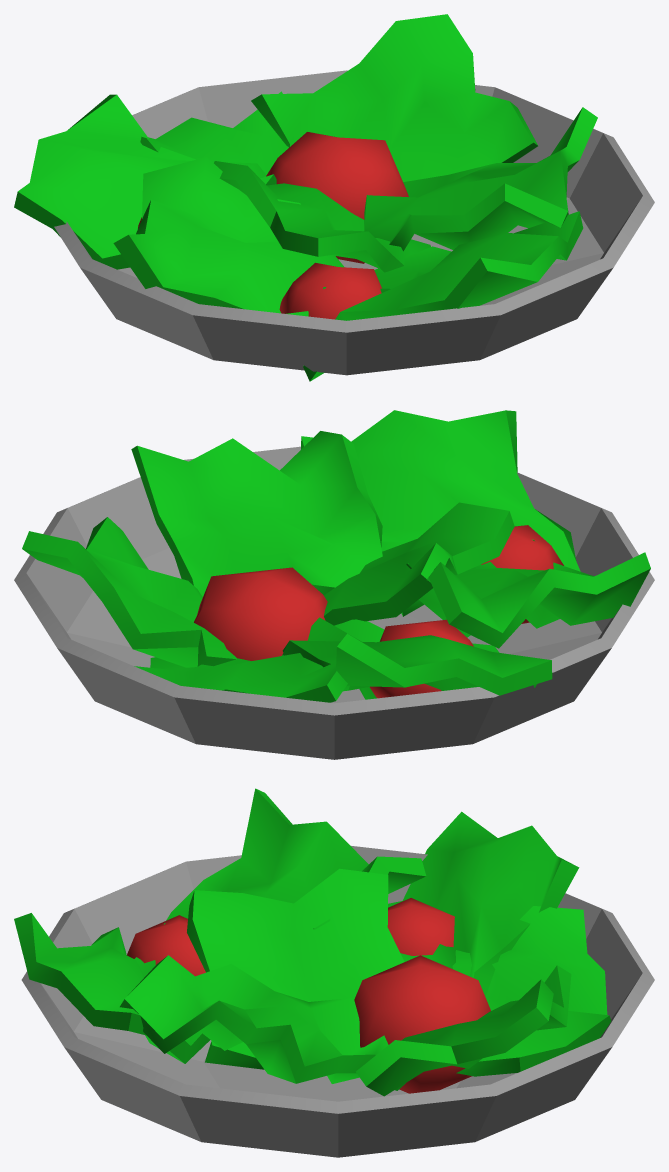
File: Sald.fbx
3 renders of one model, top to bottom at view 1: azimuth 30°, elevation 25°; view 2: azimuth 150°, elevation 25°; view 3: azimuth 270°, elevation 25°, orthographic. The views are drawn at different scales.
Parts seen in each view (by area): view 1: Bowl, Salad03, Salad05, Salad04, Salad06, Salad07, Salad08, Salad00, Salad09, Salad01; view 2: Bowl, Salad06, Salad07, Salad03, Salad05, Salad04, Salad08, Salad00, Salad09, Salad01, Salad02; view 3: Bowl, Salad08, Salad06, Salad04, Salad09, Salad05, Salad03, Salad00, Salad07, Salad02, Salad01.
Boxes of the visible parts, box(x1,y1,x2,y2) form: Bowl: box(54, 70, 654, 375); Salad03: box(251, 14, 537, 181); Salad05: box(113, 157, 344, 316); Salad04: box(14, 94, 276, 269); Salad06: box(364, 107, 597, 251); Salad07: box(303, 211, 583, 381); Salad08: box(214, 161, 430, 272); Salad00: box(266, 132, 408, 263); Salad09: box(140, 91, 288, 174); Salad01: box(279, 262, 381, 319); Bowl: box(14, 446, 654, 759); Salad06: box(131, 431, 382, 596); Salad07: box(301, 410, 580, 571); Salad03: box(22, 517, 236, 667); Salad05: box(401, 552, 650, 648); Salad04: box(282, 617, 552, 699); Salad08: box(324, 502, 514, 625); Salad00: box(194, 567, 327, 660); Salad09: box(134, 619, 384, 702); Salad01: box(481, 525, 563, 623); Salad02: box(369, 619, 473, 698); Bowl: box(21, 846, 654, 1157); Salad08: box(187, 868, 404, 1069); Salad06: box(120, 955, 388, 1083); Salad04: box(388, 811, 579, 996); Salad09: box(400, 906, 611, 1076); Salad05: box(166, 788, 426, 929); Salad03: box(356, 965, 571, 1096); Salad00: box(354, 955, 490, 1093); Salad07: box(14, 913, 210, 1063); Salad02: box(387, 898, 454, 955); Salad01: box(127, 915, 205, 976).
Size of the model in its own units: 138 by 40.42 by 138.
